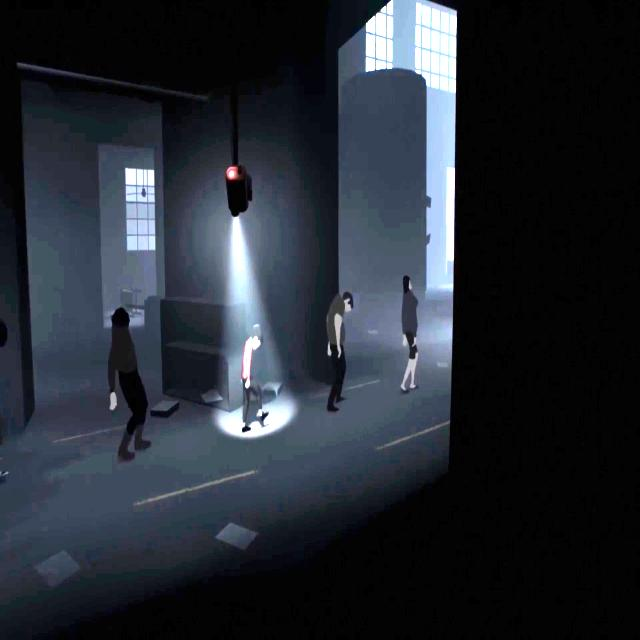boy: (242, 326, 264, 433)
zombie: (108, 306, 149, 460), (326, 291, 354, 411), (401, 276, 418, 394), (0, 320, 11, 480)
